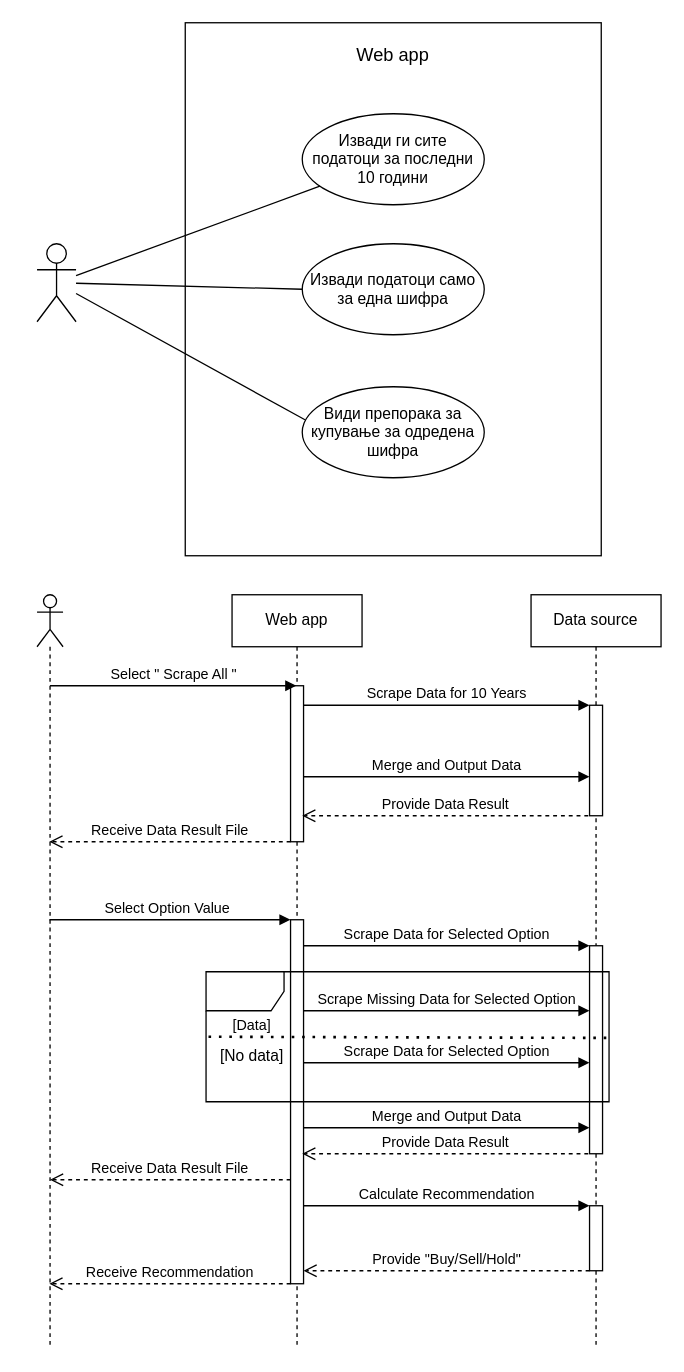
Image size: 684x1372. Some labels were removed from this diagram. Each missing label, with the box of its shape:
IF: (205, 970, 609, 1102)
Корисник: (36, 242, 76, 322)
